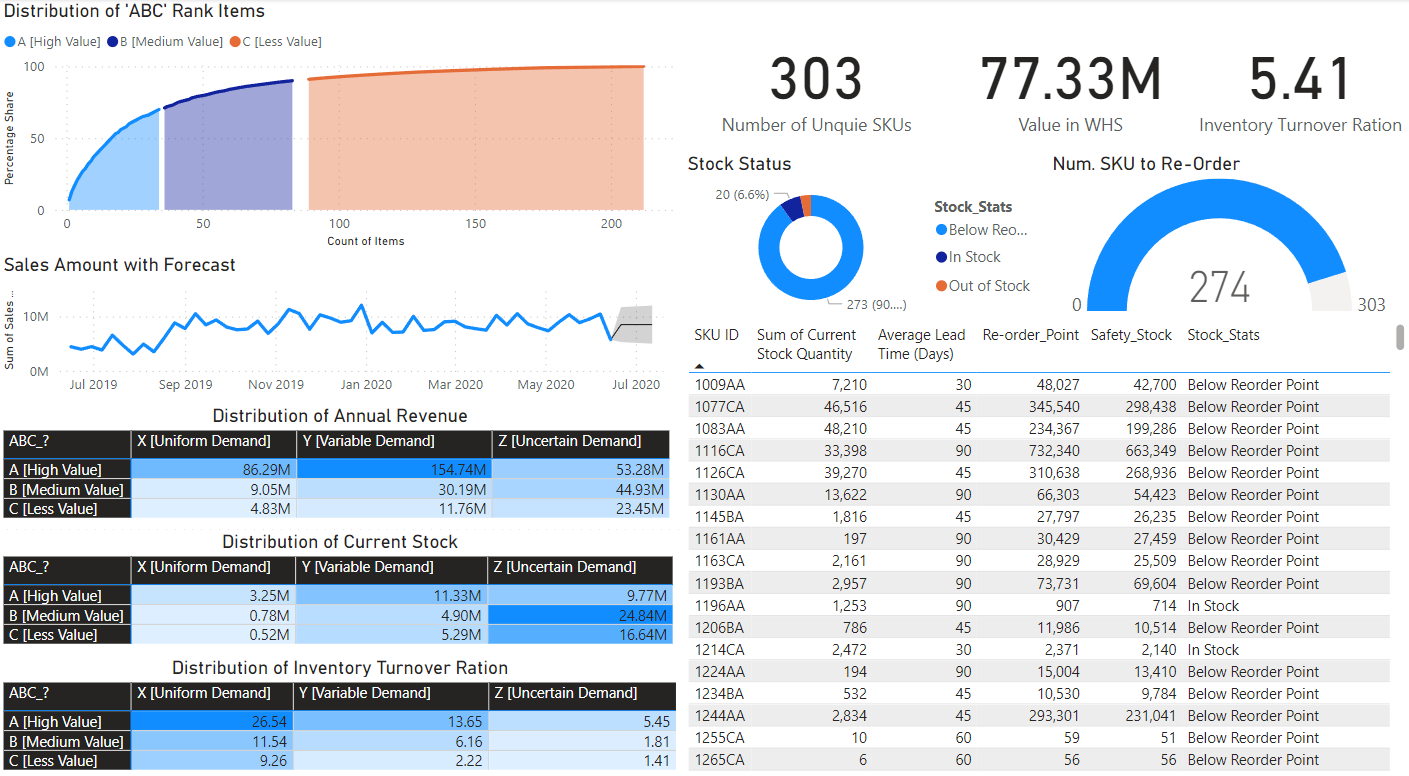

The page's visual inventory and layout, read from the dashboard file:
{"tool":"powerbi","page":{"name":"Page 1","canvas":[1280,720],"ordinal":0},"visuals":[{"type":"stackedAreaChart","title":"Distribution of ''ABC'' Rank Items","fields":{"Category":["Stock.ABC Rank"],"Y":["Avg(Stock.Cummulative_Share)"],"Series":["Stock.ABC_?"]},"box":[0,0,619.5,230],"z":0},{"type":"pivotTable","title":"Distribution of Annual Revenue","fields":{"Rows":["Stock.ABC_?"],"Columns":["Stock.XYZ_?"],"Values":["Sum(Stock.Annual_Revenue)"]},"box":[0,366.8,619.5,114.1],"z":1000},{"type":"pivotTable","title":"Distribution of Current Stock","fields":{"Rows":["Stock.ABC_?"],"Columns":["Stock.XYZ_?"],"Values":["Sum(Stock.Value_In_WHS)"]},"box":[0,480.9,619.5,114.1],"z":2000},{"type":"card","fields":{"Values":["Stock.Inventory Turnover Ration"]},"box":[1079.5,0,200.2,150.3],"z":3000},{"type":"card","fields":{"Values":["Count(Stock.SKU ID)"]},"box":[619.5,0,243.6,150.3],"z":4000},{"type":"card","fields":{"Values":["Sum(Stock.Value_In_WHS)"]},"box":[863.1,0,216.5,150.3],"z":5000},{"type":"pivotTable","title":"Distribution of Inventory Turnover Ration","fields":{"Rows":["Stock.ABC_?"],"Columns":["Stock.XYZ_?"],"Values":["Stock.Inventory Turnover Ration"]},"box":[0,595,619.5,113.2],"z":6000},{"type":"tableEx","fields":{"Values":["Stock.SKU ID","Stock.Current Stock Quantity","Stock.Average Lead Time (days)","Stock.Re-order_Point","Stock.Safety_Stock","Stock.Stock_Stats"]},"box":[619.5,288.9,660.2,419.3],"z":7000},{"type":"gauge","title":"Num. SKU to Re-Order","fields":{"Y":["Stock.SKU to Reorder"],"MaxValue":["CountNonNull(Stock.SKU ID)"]},"box":[950,138.6,329.7,154],"z":8000},{"type":"donutChart","title":"Stock Status","fields":{"Category":["Stock.Stock_Stats"],"Y":["CountNonNull(Stock.SKU ID)"]},"box":[619.5,138.6,330.6,154],"z":9000},{"type":"lineChart","title":"Sales Amount with Forecast","fields":{"Category":["Weekly Demand Sheet.Week Date"],"Y":["Sum(Weekly Demand Sheet.Sales Amount)"]},"box":[0,230,619.5,136.8],"z":10000}]}

Visuals, with their boxes in screenshot pixels (x1, y1, x2, y2), scaled from the page's 1280x720 canvas onto the 1409x776 screenshot:
"Distribution of ''ABC'' Rank Items" stackedAreaChart: [0,0,682,248]
"Distribution of Annual Revenue" pivotTable: [0,395,682,518]
"Distribution of Current Stock" pivotTable: [0,518,682,641]
card - Stock.Inventory Turnover Ration: [1188,0,1408,162]
card - Count(Stock.SKU ID): [682,0,950,162]
card - Sum(Stock.Value_In_WHS): [950,0,1188,162]
"Distribution of Inventory Turnover Ration" pivotTable: [0,641,682,763]
tableEx - Stock.SKU ID x Stock.Current Stock Quantity: [682,311,1408,763]
"Num. SKU to Re-Order" gauge: [1046,149,1408,315]
"Stock Status" donutChart: [682,149,1046,315]
"Sales Amount with Forecast" lineChart: [0,248,682,395]
